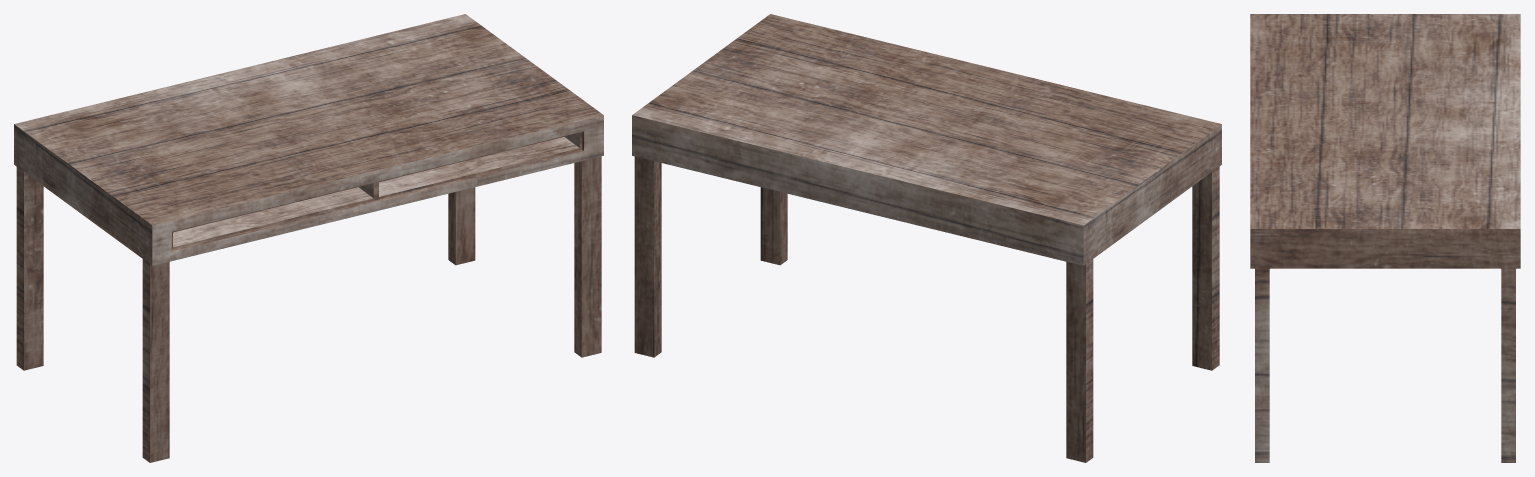
The model's file is MesaDeCanto_Adm_CENA.fbx.
3 renders of one model, left to right at view 1: azimuth 30°, elevation 25°; view 2: azimuth 150°, elevation 25°; view 3: azimuth 270°, elevation 25°, orthographic. The views are drawn at different scales.
Visible parts, largest first — view 1: Cube.079; view 2: Cube.079; view 3: Cube.079.
Part boxes in pixels (bbox=[...]): Cube.079: bbox=[14, 14, 603, 462]; Cube.079: bbox=[632, 14, 1221, 462]; Cube.079: bbox=[1250, 14, 1520, 462].
Size of the model in its own units: 135 by 68.45 by 71.65.
